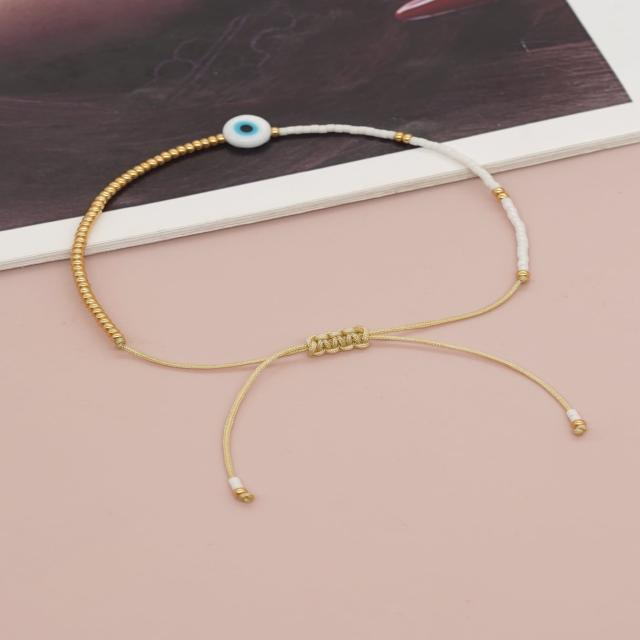bracelet: (0, 56, 640, 481)
